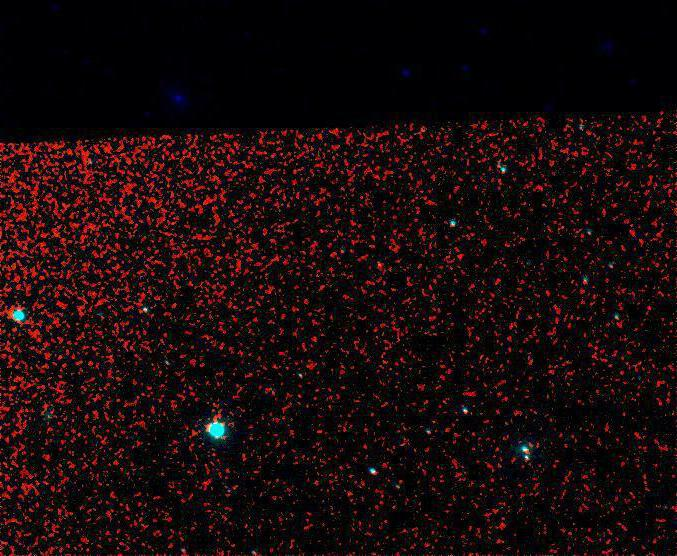star: (160, 287, 190, 317)
